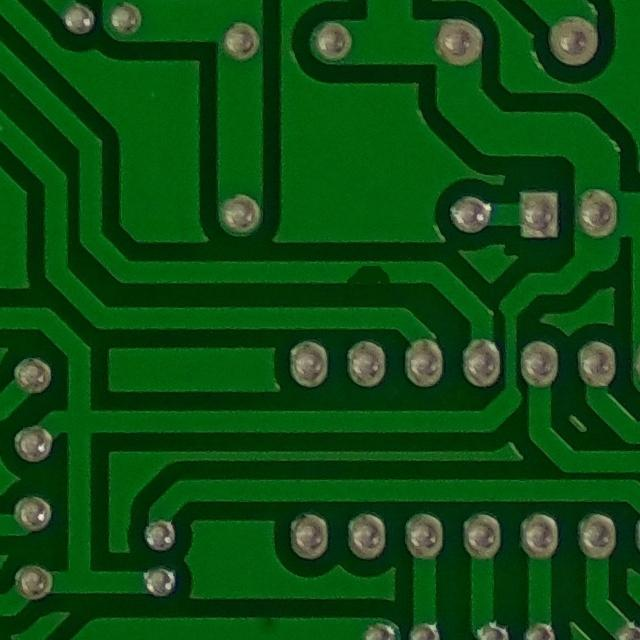mouse_bite: (324, 252, 411, 298)
